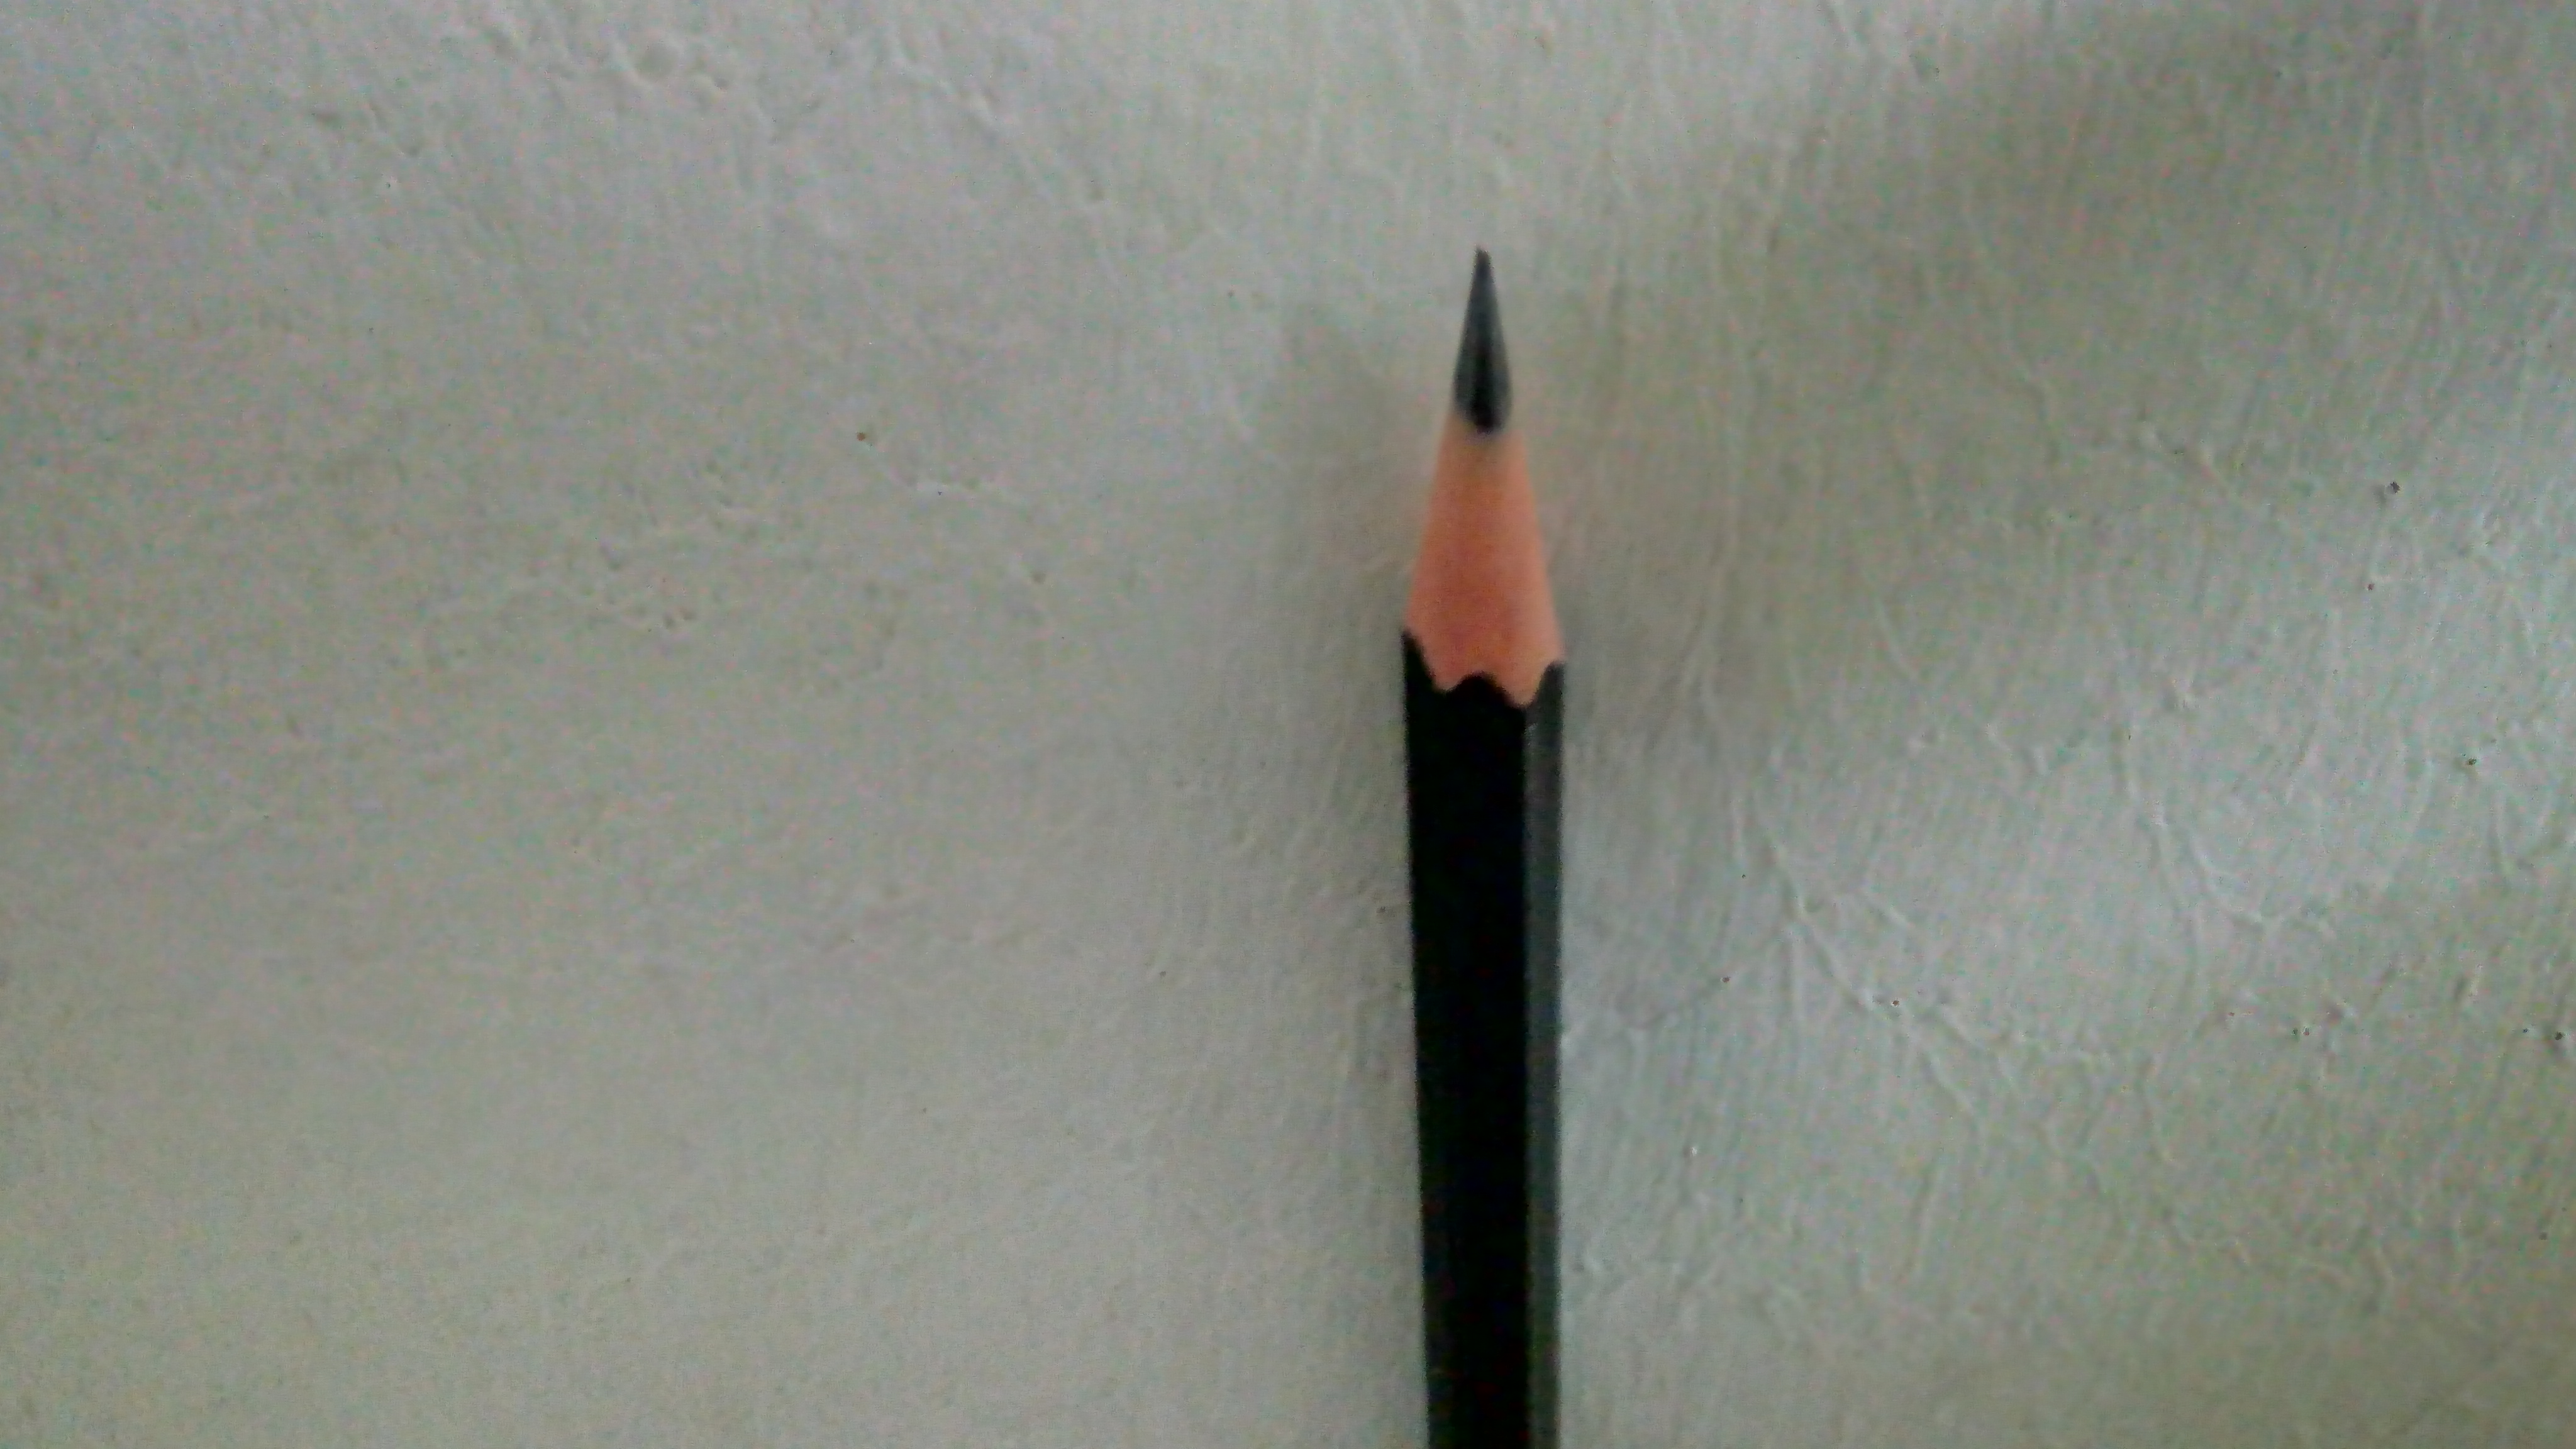pen_tip: (1288, 191, 1743, 809)
